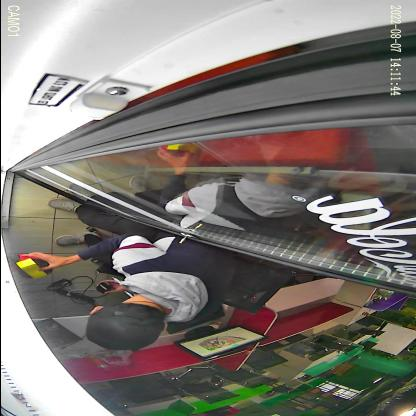red: (6, 254, 40, 271)
yellow: (13, 258, 52, 280)
